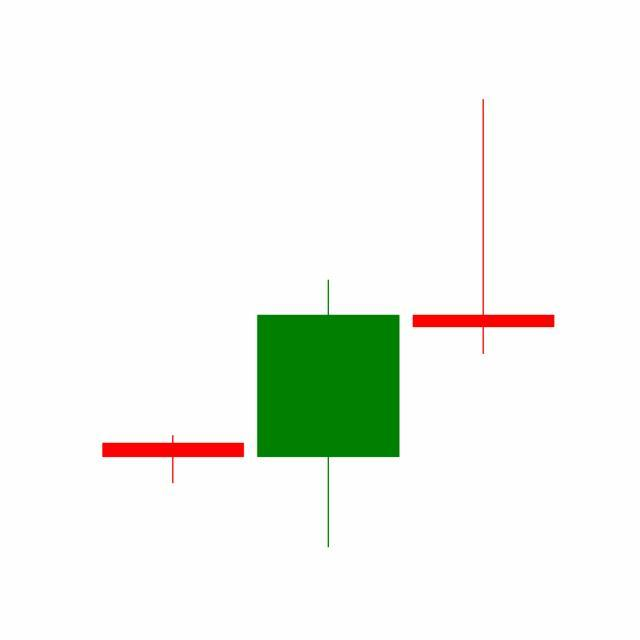Spinning Top: (406, 97, 562, 358)
